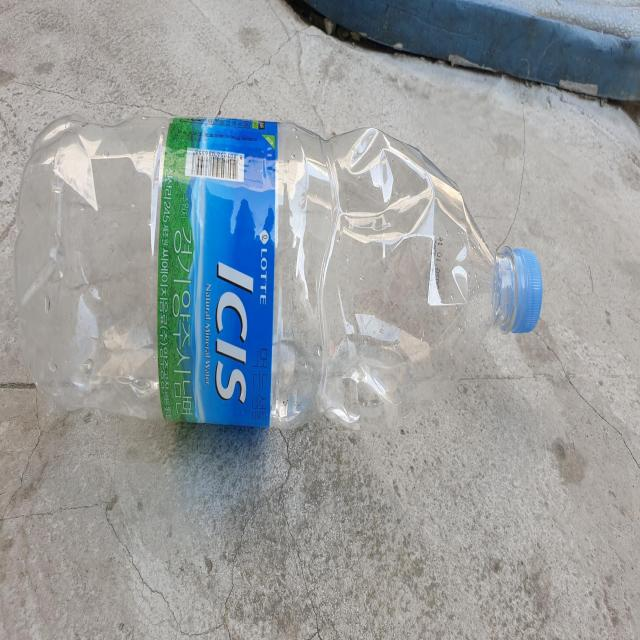plastic: (14, 115, 543, 429)
